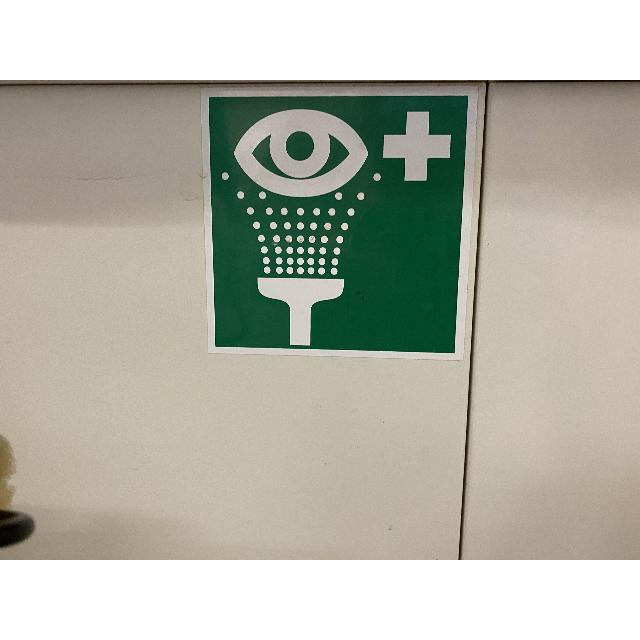eye shower: (200, 86, 478, 360)
